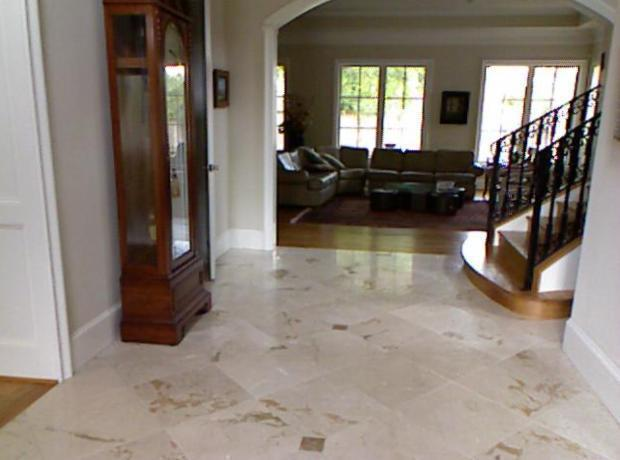Escaleras: (459, 82, 602, 317)
